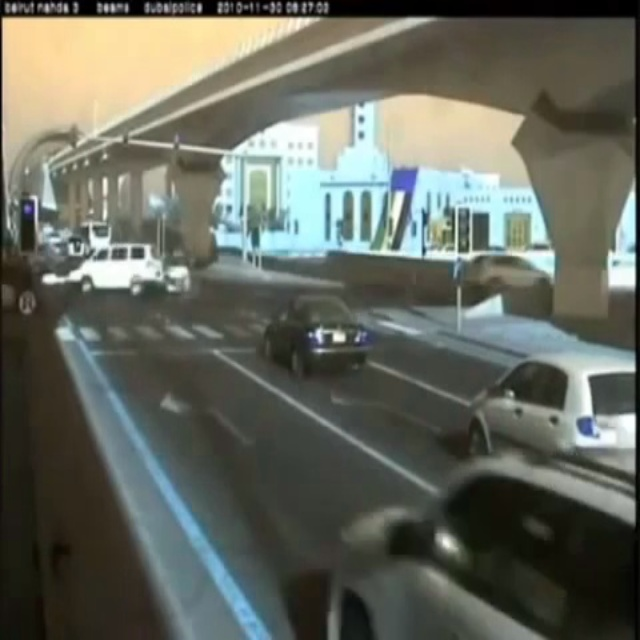acc: (43, 238, 195, 313)
